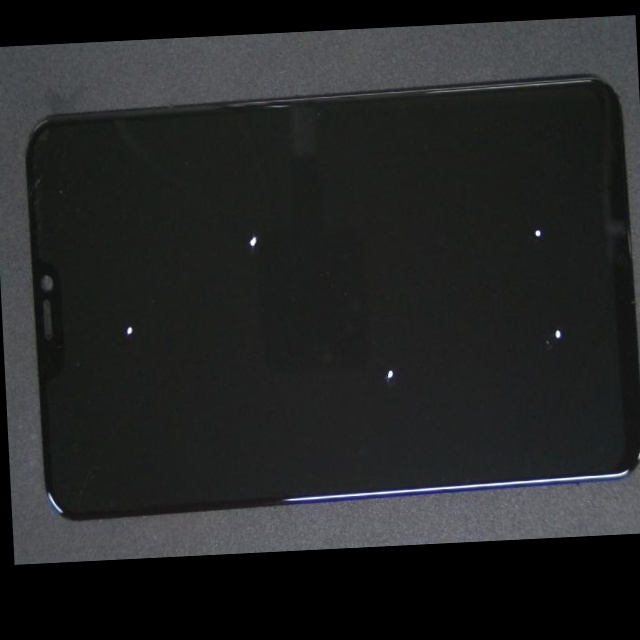stain: (184, 145, 583, 555), (269, 142, 640, 501), (264, 81, 640, 333), (114, 79, 371, 346), (51, 146, 173, 478)
